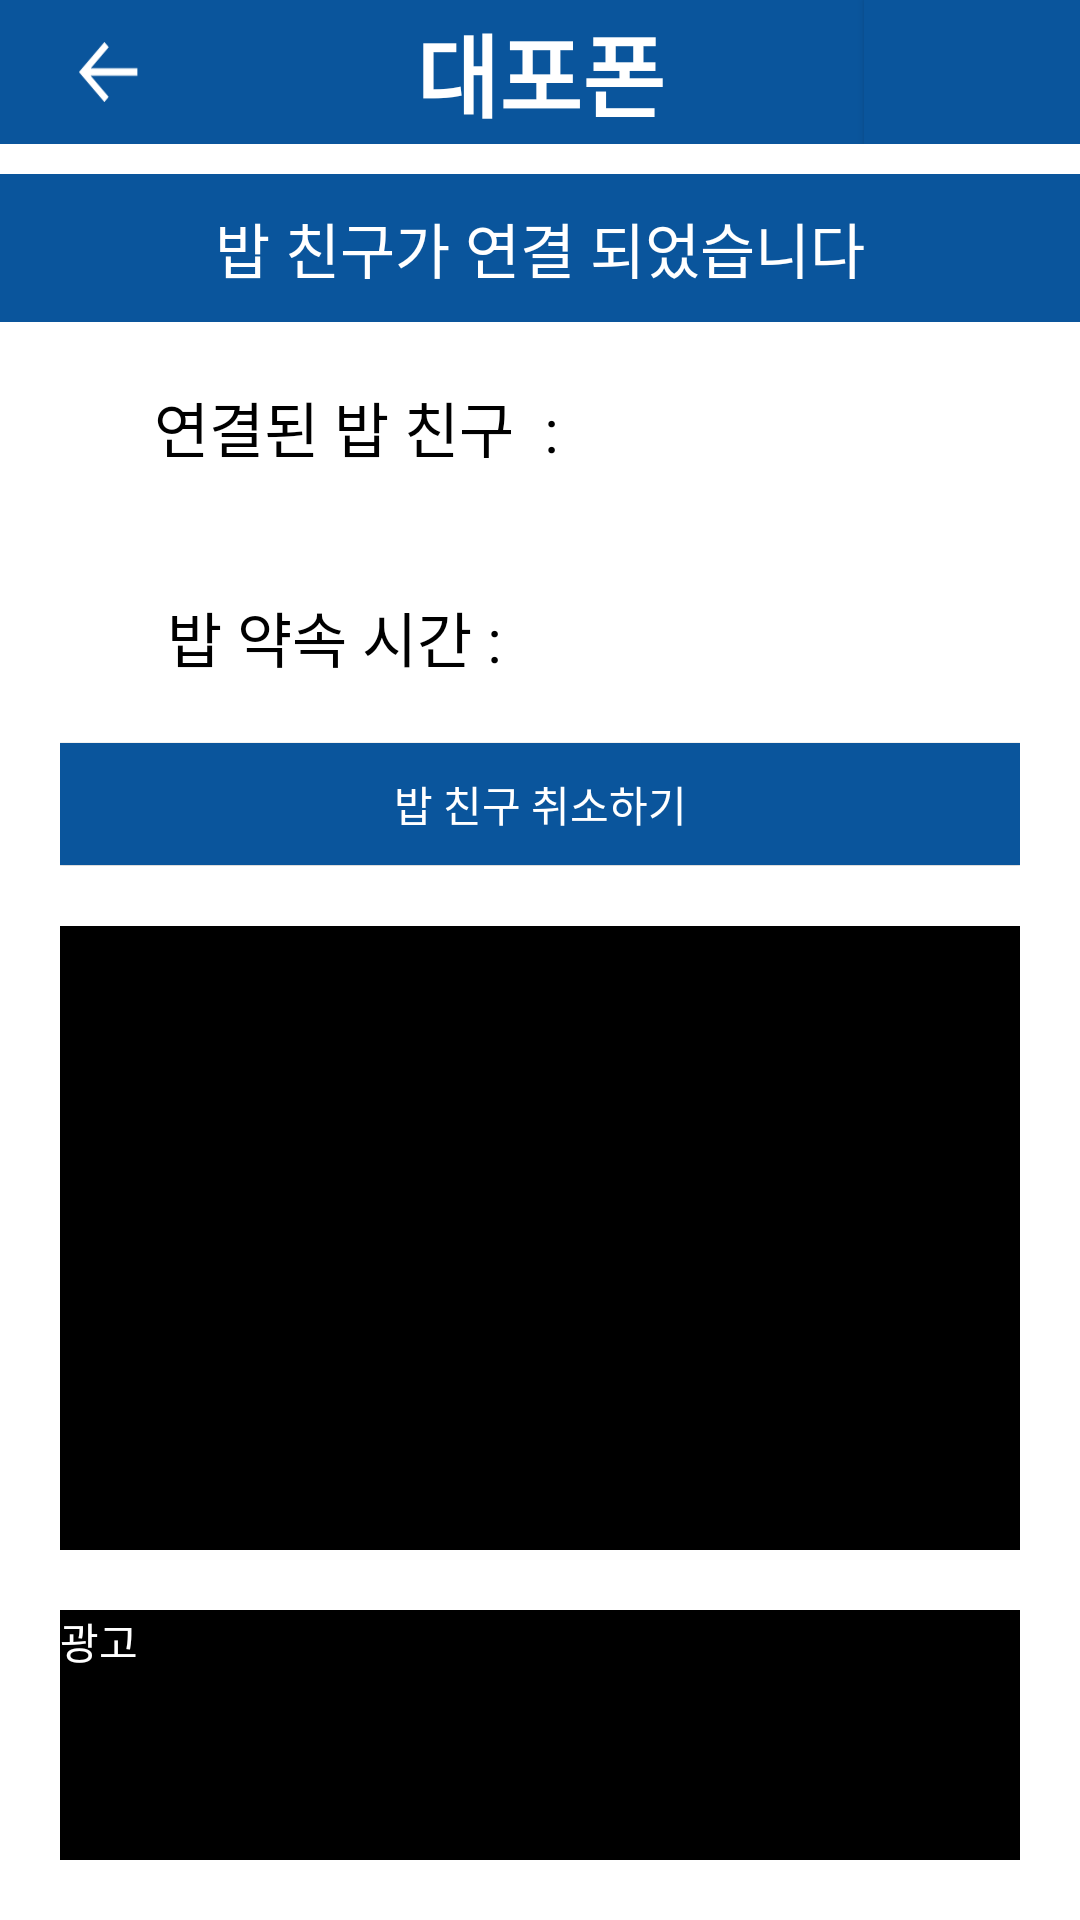

Point at icon controls on the screen. Image size 1080 × 1920, points as (x,y).
back arrow resize: (108,72)
